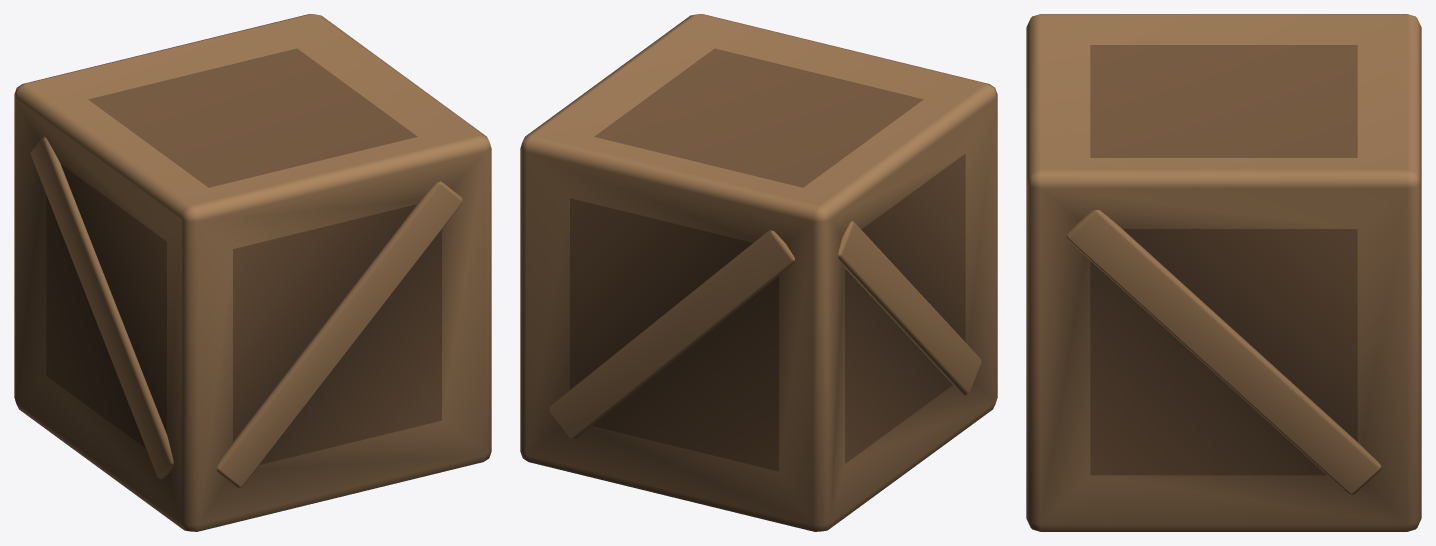
The model's file is Crate.fbx.
3 renders of one model, left to right at view 1: azimuth 30°, elevation 25°; view 2: azimuth 150°, elevation 25°; view 3: azimuth 270°, elevation 25°, orthographic. The views are drawn at different scales.
Parts seen in each view (by area): view 1: Crate; view 2: Crate; view 3: Crate.
Part boxes in pixels (bbox=[...]): Crate: bbox=[14, 14, 491, 531]; Crate: bbox=[520, 14, 997, 531]; Crate: bbox=[1026, 14, 1421, 531].
Size of the model in its own units: 0.6 by 0.6001 by 0.6.
